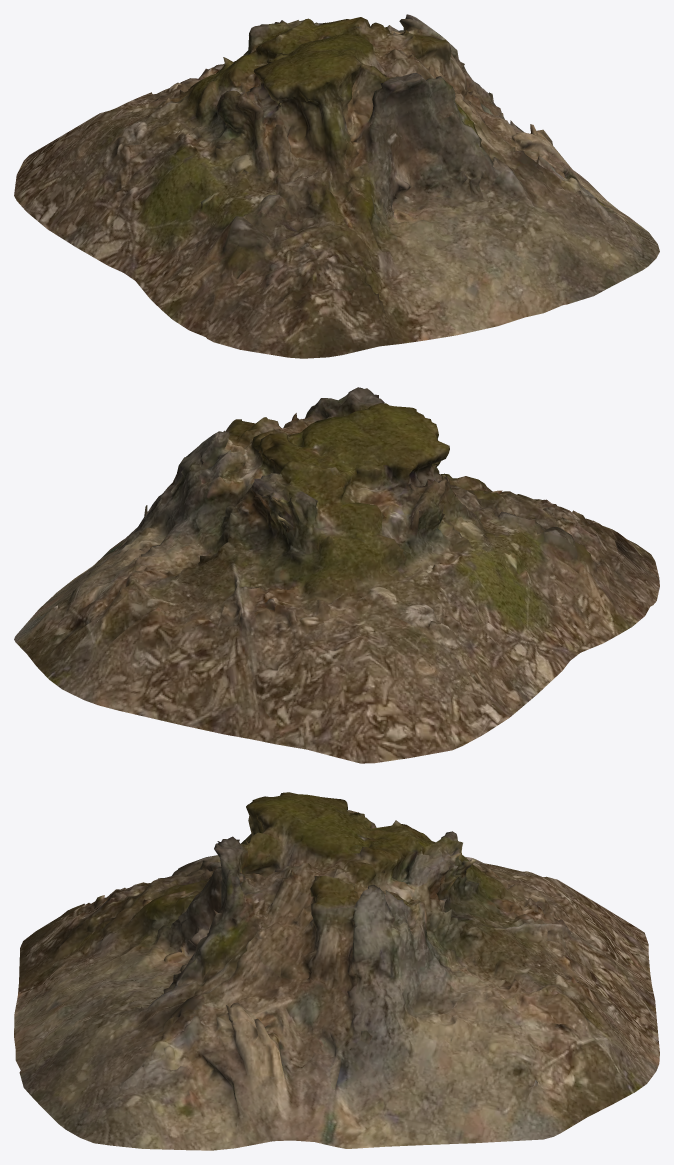
Rendered from tree_stump_01.glb.
3 renders of one model, top to bottom at view 1: azimuth 30°, elevation 25°; view 2: azimuth 150°, elevation 25°; view 3: azimuth 270°, elevation 25°, orthographic. The views are drawn at different scales.
Parts seen in each view (by area): view 1: tree_stump_01; view 2: tree_stump_01; view 3: tree_stump_01.
Boxes of the visible parts, x1=… form: tree_stump_01: x1=14, y1=14, x2=659, y2=358; tree_stump_01: x1=14, y1=387, x2=659, y2=763; tree_stump_01: x1=14, y1=792, x2=659, y2=1150.
Size of the model in its own units: 1.43 by 0.5725 by 1.59.
Materials: 1 (1 with a texture image).
